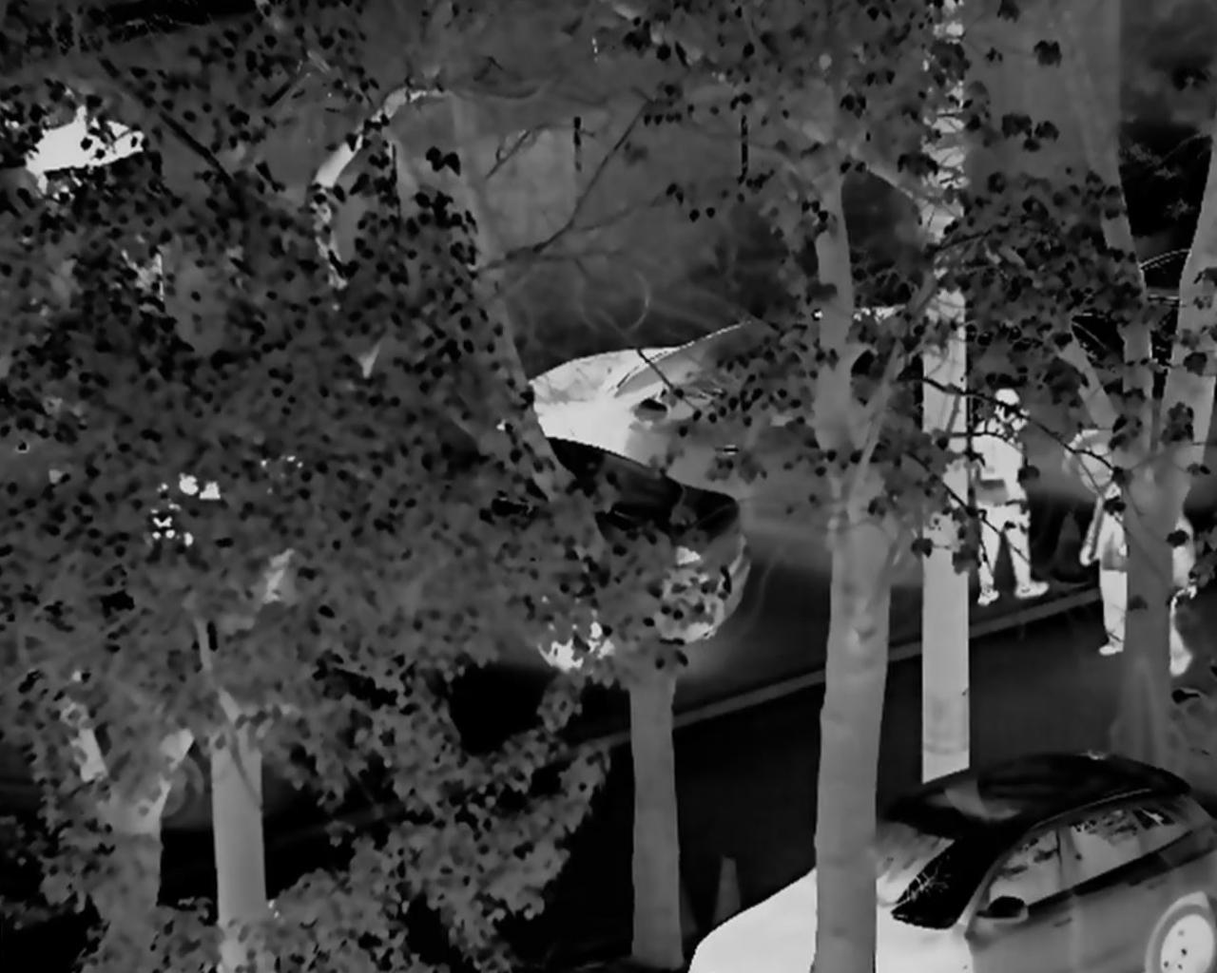person: (960, 370, 1048, 605), (1070, 450, 1141, 661), (1129, 493, 1200, 684)
